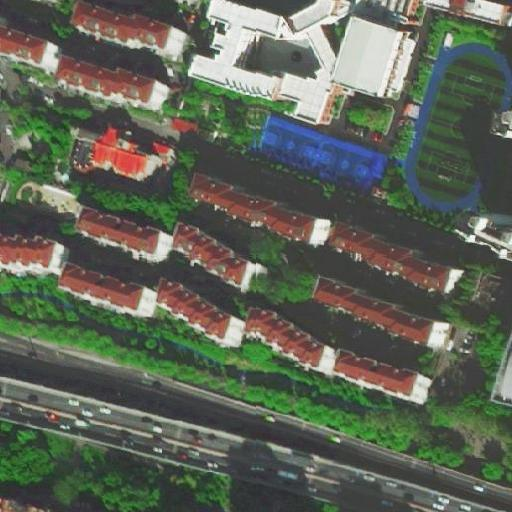building: (316, 269, 449, 347), (327, 216, 463, 291), (190, 169, 322, 242), (239, 310, 346, 376), (335, 17, 412, 99), (56, 55, 164, 110), (186, 52, 290, 106), (210, 0, 353, 39), (78, 5, 182, 57), (325, 346, 425, 400), (176, 223, 256, 289), (160, 283, 242, 346), (64, 263, 154, 317), (80, 208, 171, 259), (95, 134, 177, 186), (278, 71, 340, 131), (453, 268, 512, 331), (0, 27, 59, 76), (1, 238, 67, 277), (475, 209, 511, 250), (451, 328, 478, 363), (0, 497, 42, 512), (197, 14, 220, 39), (209, 30, 230, 53)
